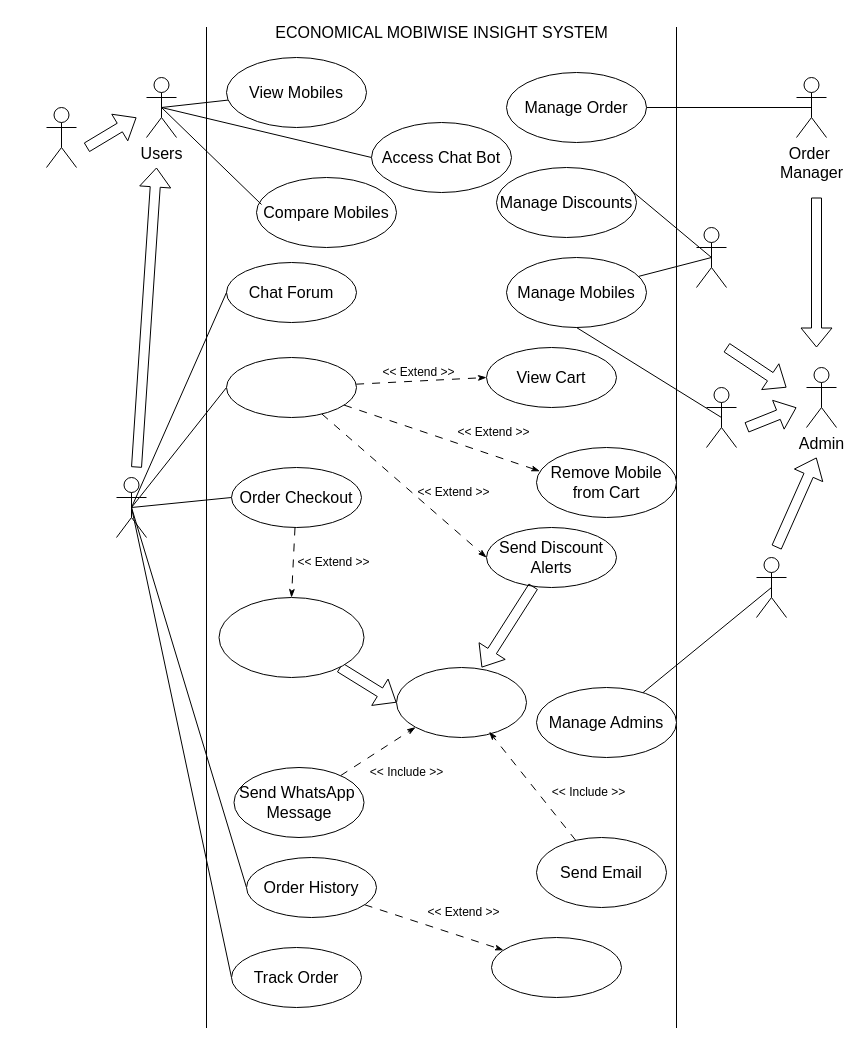
The diagram is 861 pixels wide and 1045 high, and some of its shapes have lost their labels. The shapes that lost their labels are listed below. From the top down, each one's centre as x and y in pixels, then its label:
the point at 61,137: Guest Users
the point at 711,257: Product Manager
the point at 291,387: Add Mobile to Cart
the point at 721,417: Data Entry Operator
the point at 131,507: Registered Users
the point at 771,587: Super Admin
the point at 291,637: Order Confirmation Message
the point at 461,702: Send Alerts
the point at 556,967: Invoice Generation
